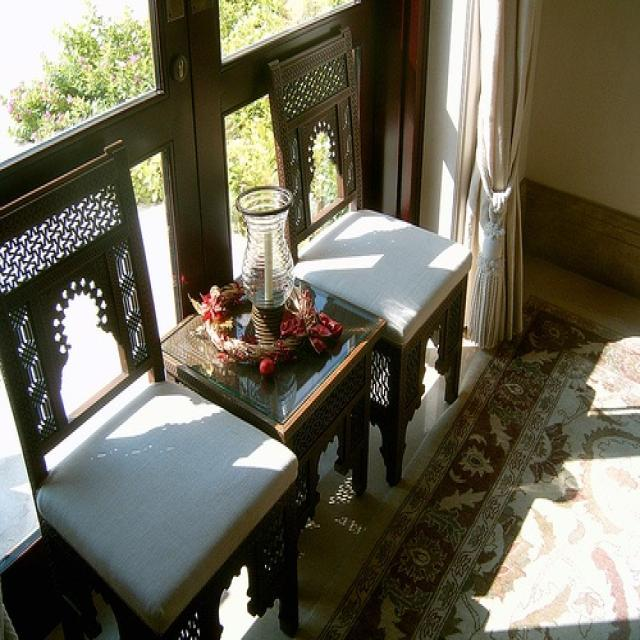chair: (2, 138, 300, 638), (267, 24, 473, 488)
